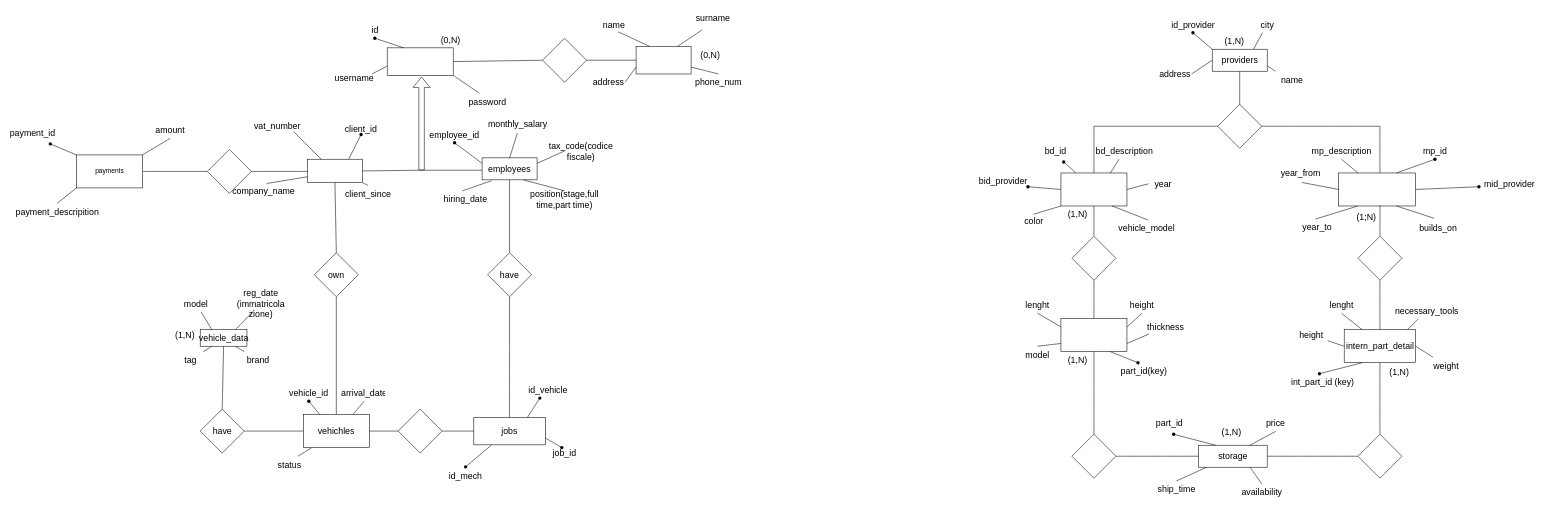
Some shapes in this 1553 by 510 pixel diagram are drawn without their labels. The centre of each missing label's shape, as x and y in pixels:
body_parts: the point at 1093,189
clients: the point at 334,171
data: the point at 663,60
mechanical_parts: the point at 1377,189
must: the point at 229,171
parts_detail: the point at 1093,335
users: the point at 420,61
